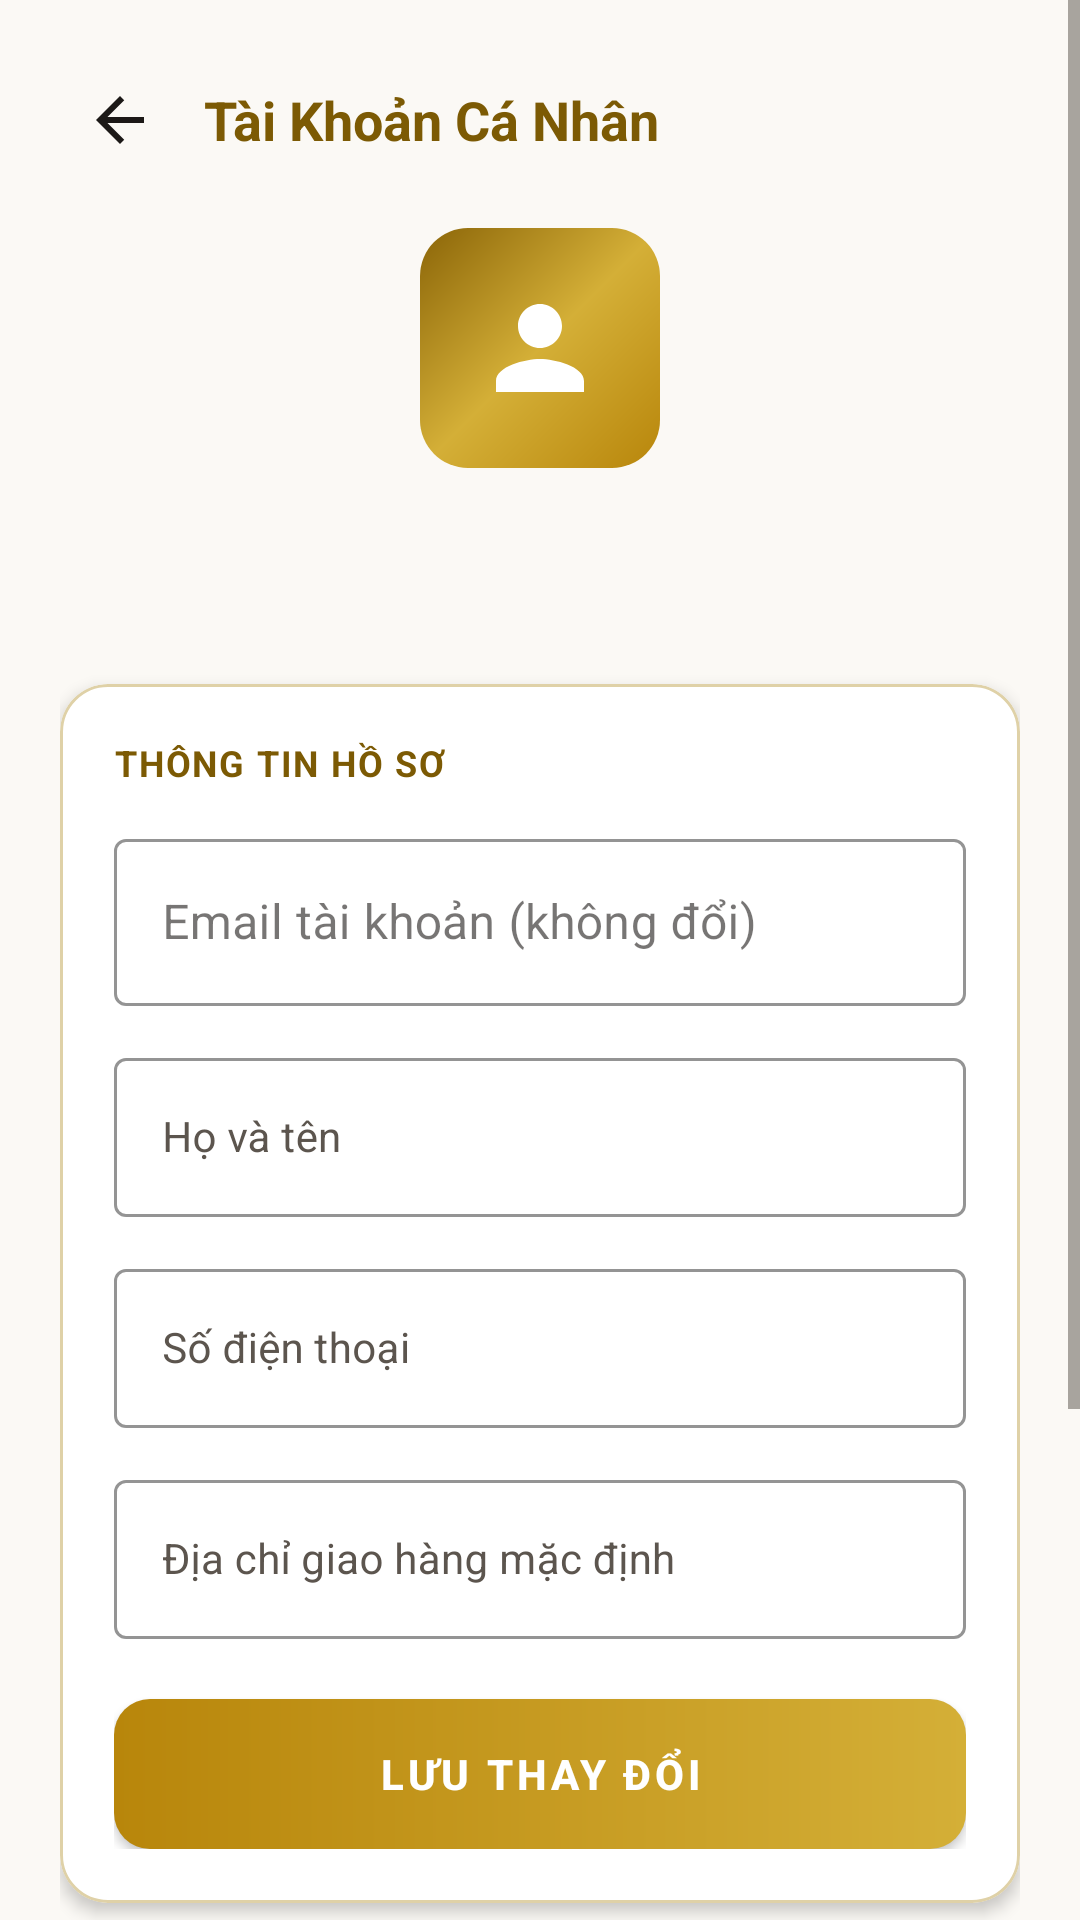

Icon click points for this 1080w x 1920h phone screenshot, format [x,y]:
Avatar: [540,348]
Quay lại: [120,120]
